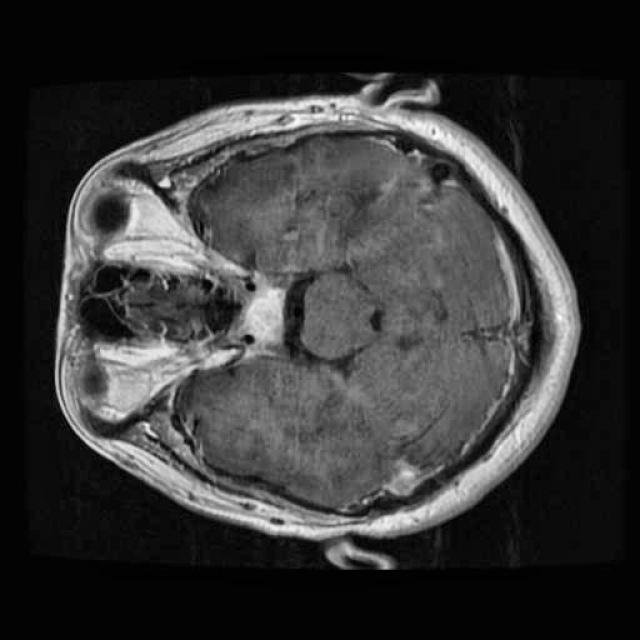Tumor: (235, 276, 298, 350)
